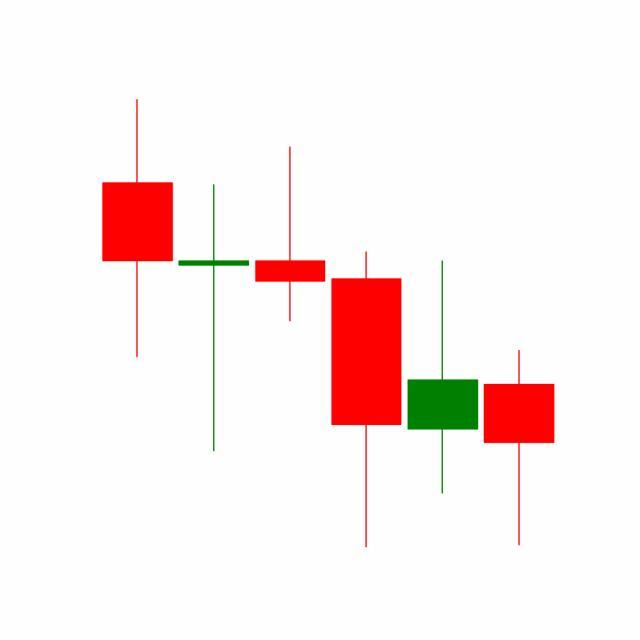Hikkake Pattern: (175, 142, 555, 548)
